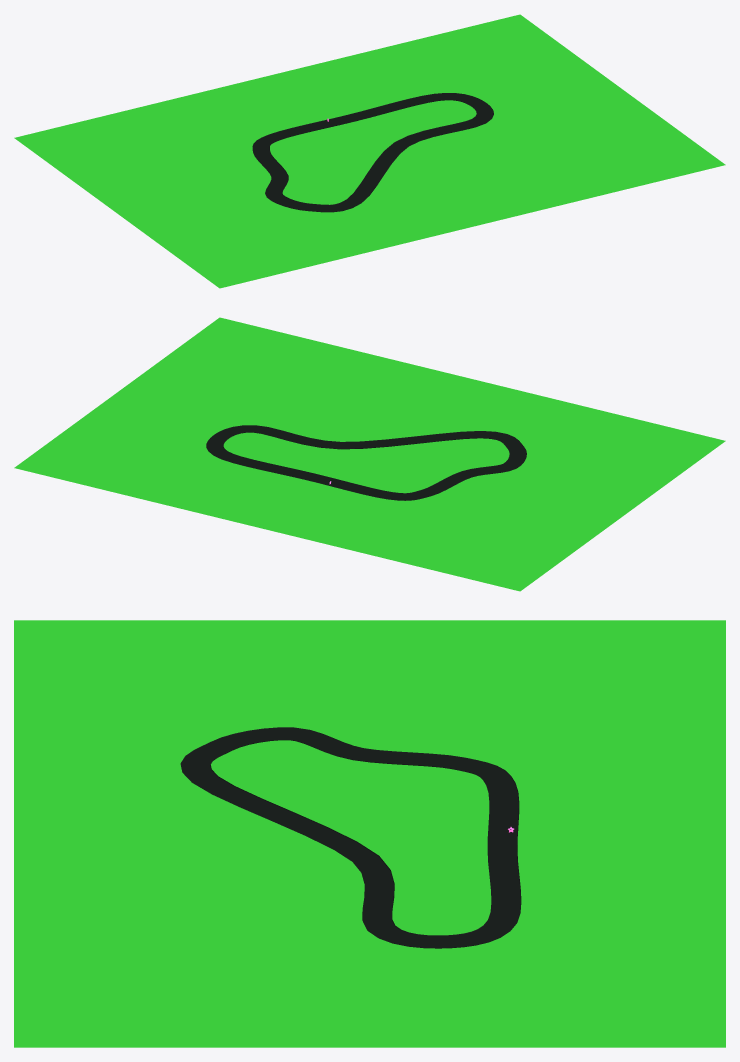
The model's file is circuit2.DAE.
3 views of the same model, one above another, from view 1: azimuth 30°, elevation 25°; view 2: azimuth 150°, elevation 25°; view 3: azimuth 270°, elevation 25° (orthographic). The views are drawn at different scales.
Visible parts, largest first — view 1: Plan001, Extrusion001; view 2: Plan001, Extrusion001; view 3: Plan001, Extrusion001.
Boxes of the visible parts, <box> form: Plan001: <box>14,14,725,288</box>; Extrusion001: <box>252,93,493,212</box>; Plan001: <box>14,317,725,591</box>; Extrusion001: <box>206,425,526,500</box>; Plan001: <box>14,620,725,1047</box>; Extrusion001: <box>180,727,521,948</box>.
Size of the model in its own units: 235 by 1.61 by 165.
